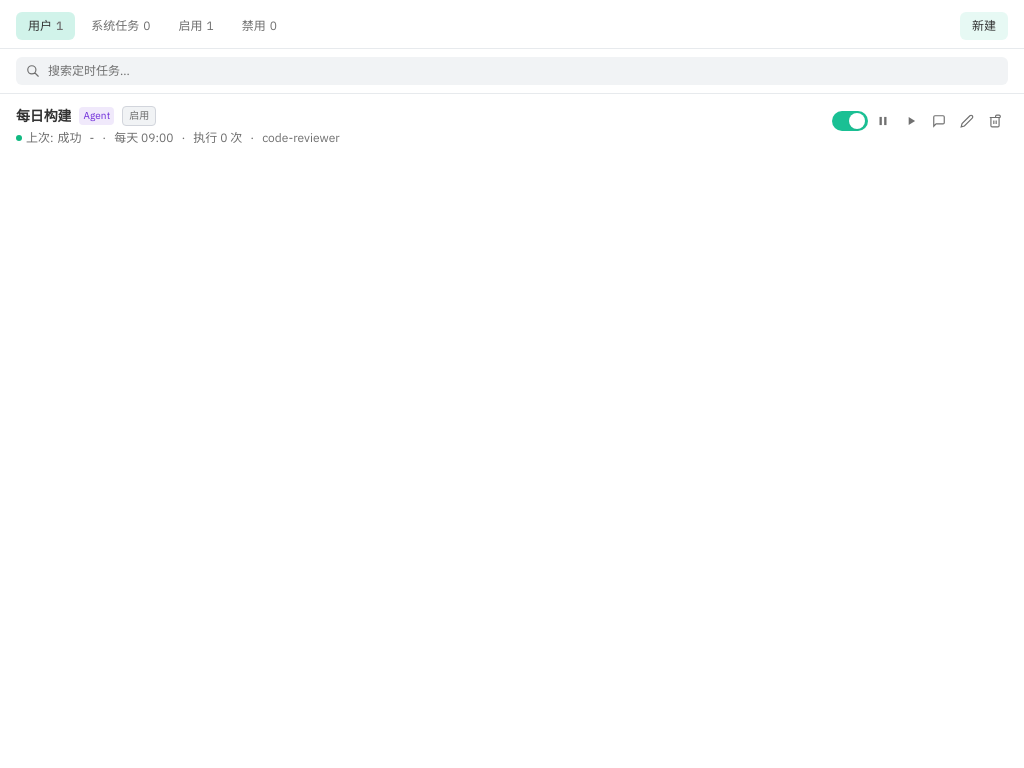
it: 暂停 / 恢复 › 暂停失败不静默：可读原因进入错误通道并被播报
Click the button named "暂停".
click(883, 121)  # box [870,108,896,134]
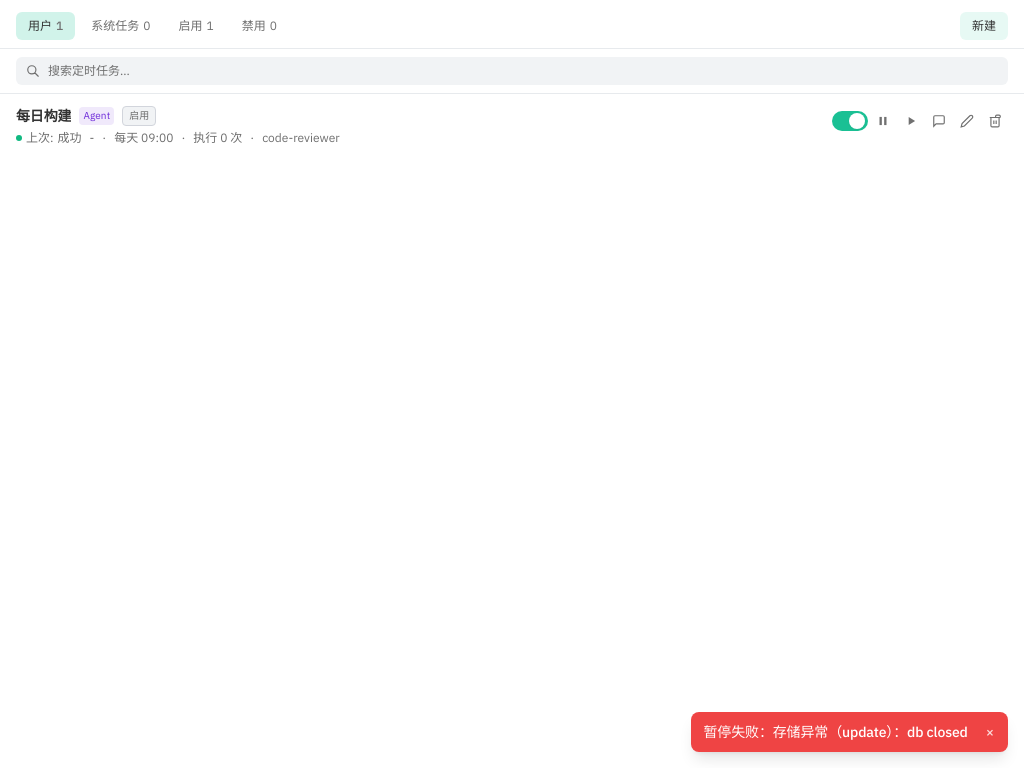
Result: the message shows "暂停失败" at [703,723,968,741]
Result: the message shows "存储异常（update）：db closed" at [703,723,968,741]
